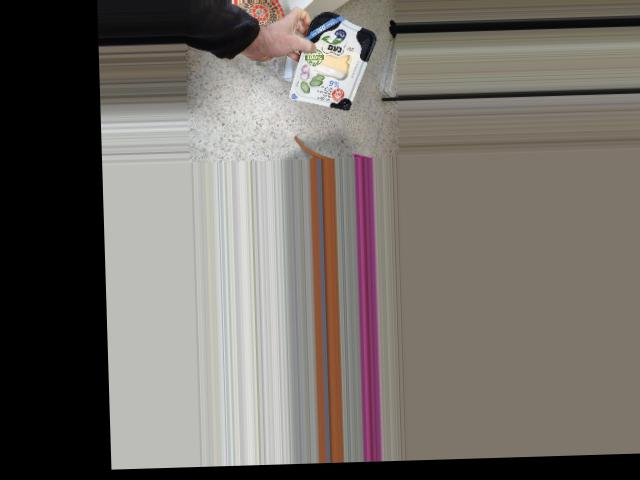cheese: (301, 7, 371, 111)
